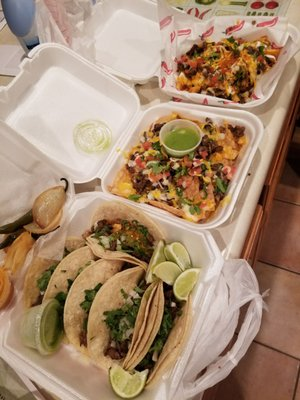sushi: (13, 195, 262, 399), (101, 101, 264, 227), (158, 5, 297, 113), (159, 119, 202, 159)
